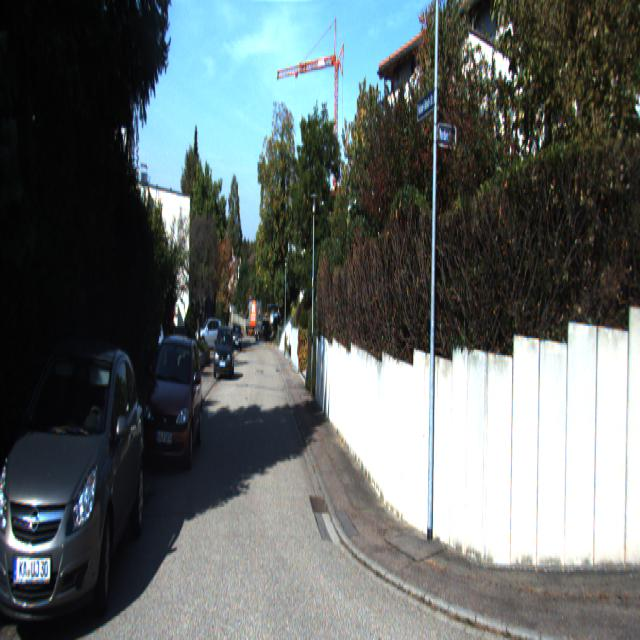Car: (0, 332, 146, 639), (139, 330, 203, 480), (212, 325, 235, 382)
